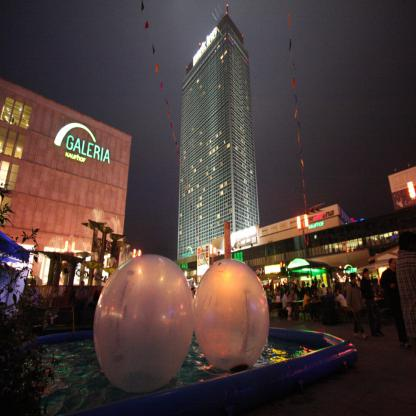Ball: (96, 254, 191, 393), (193, 259, 270, 370)
